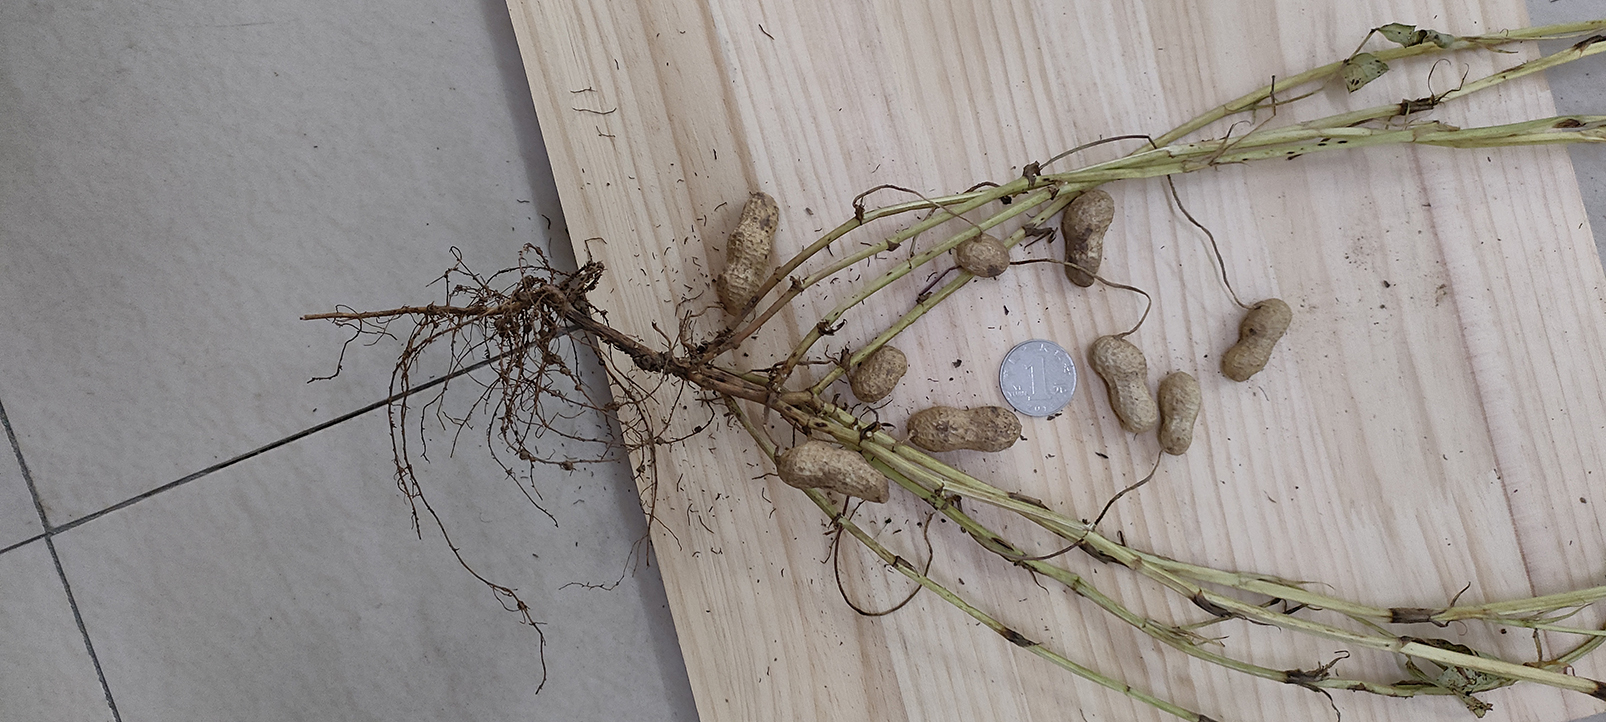h: (718, 192, 780, 314), (1085, 333, 1161, 432), (774, 438, 891, 503), (1220, 298, 1293, 380), (908, 406, 1023, 452), (1156, 372, 1203, 456), (852, 345, 911, 401), (954, 235, 1012, 274)
l: (1059, 187, 1115, 289)
